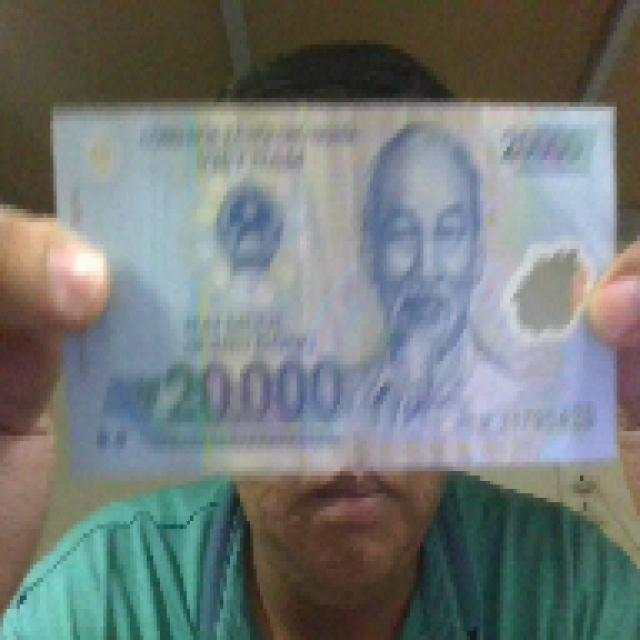20 000 VND: (47, 93, 623, 480)
